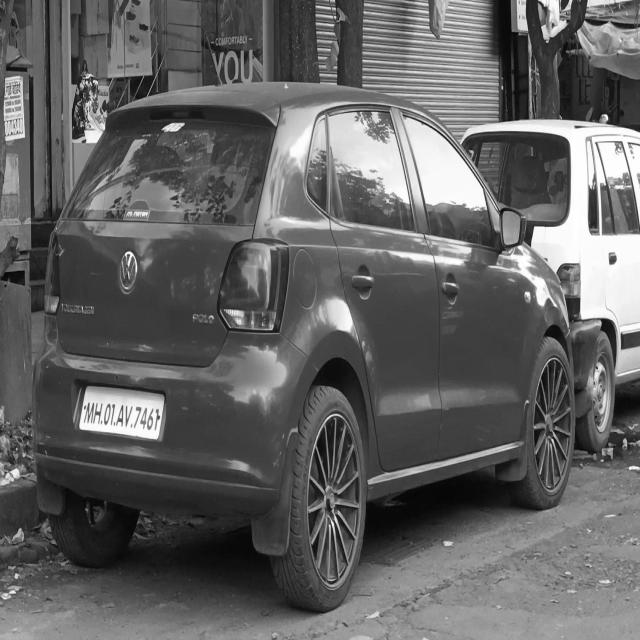car: (36, 79, 576, 588)
license-plate: (73, 386, 166, 450)
